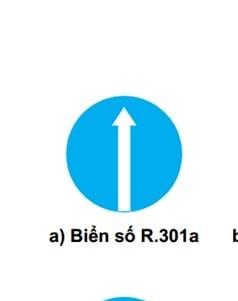Go_straight: (62, 94, 184, 213)
